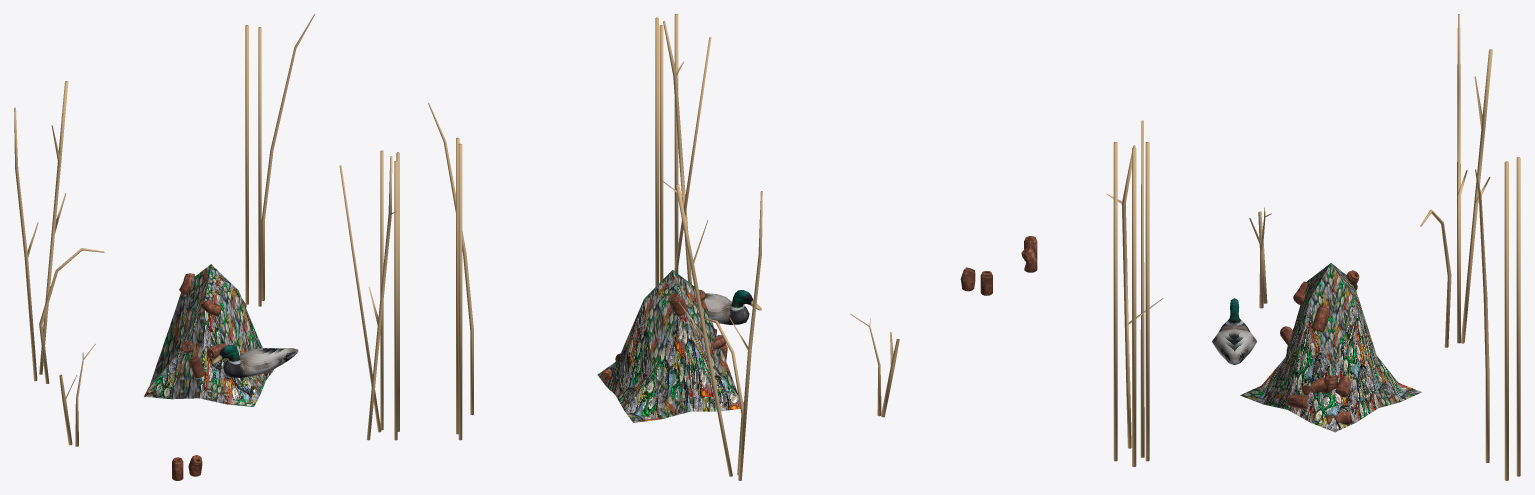
The model's file is ducktrash04.gltf.
3 renders of one model, left to right at view 1: azimuth 30°, elevation 25°; view 2: azimuth 150°, elevation 25°; view 3: azimuth 270°, elevation 25°, orthographic. The views are drawn at different scales.
Parts seen in each view (by area): view 1: trash_mtn, duck.001, reed_11, reed_04, reed_12, reed_09, reed_10, reed_08, reed_03, reed_05, reed_07, reed_06 (+1 smaller); view 2: trash_mtn, reed_10, reed_11, duck.001, reed_05, reed_12, reed_03, reed_06, reed_04, reed_08, reed_09, reed_07; view 3: trash_mtn, reed_05, reed_06, reed_08, reed_09, reed_10, duck.001, reed_11, reed_04, reed_12, reed_07, reed_03 (+1 smaller).
Part boxes in pixels (left/top/right/bottom): trash_mtn: left=144, top=264, right=273, bottom=406; duck.001: left=211, top=345, right=298, bottom=377; reed_11: left=39, top=81, right=68, bottom=374; reed_04: left=366, top=156, right=396, bottom=440; reed_12: left=14, top=107, right=38, bottom=381; reed_09: left=258, top=27, right=261, bottom=306; reed_10: left=245, top=25, right=248, bottom=304; reed_08: left=394, top=161, right=397, bottom=440; reed_03: left=261, top=14, right=314, bottom=300; reed_05: left=380, top=150, right=383, bottom=430; reed_07: left=339, top=165, right=381, bottom=432; reed_06: left=396, top=152, right=399, bottom=431; trash_mtn: left=597, top=270, right=743, bottom=422; reed_10: left=458, top=143, right=462, bottom=440; reed_11: left=675, top=184, right=732, bottom=476; duck.001: left=704, top=290, right=761, bottom=324; reed_05: left=659, top=25, right=663, bottom=282; reed_12: left=729, top=191, right=762, bottom=480; reed_03: left=428, top=103, right=473, bottom=414; reed_06: left=655, top=17, right=658, bottom=286; reed_04: left=661, top=21, right=691, bottom=283; reed_08: left=674, top=14, right=678, bottom=273; reed_09: left=456, top=137, right=459, bottom=434; reed_07: left=674, top=37, right=711, bottom=272; trash_mtn: left=1240, top=263, right=1421, bottom=432; reed_05: left=1145, top=142, right=1149, bottom=461; reed_06: left=1132, top=147, right=1136, bottom=466; reed_08: left=1113, top=142, right=1117, bottom=461; reed_09: left=1504, top=161, right=1508, bottom=480; reed_10: left=1516, top=157, right=1520, bottom=476; duck.001: left=1212, top=298, right=1257, bottom=364; reed_11: left=1461, top=49, right=1492, bottom=343; reed_04: left=1106, top=145, right=1163, bottom=448; reed_12: left=1457, top=14, right=1467, bottom=343; reed_07: left=1140, top=120, right=1144, bottom=457; reed_03: left=1475, top=169, right=1489, bottom=462.
Bounding box in the file's own units: 2.27 × 1.81 × 2.45.
Materials: 5 (4 with a texture image).
